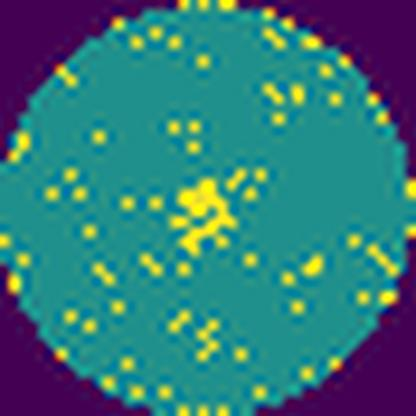Center: (176, 178, 238, 258)
